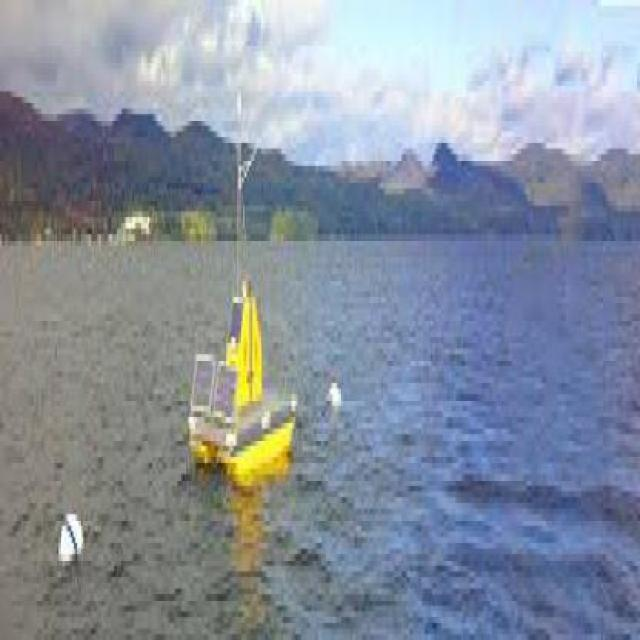buoy: (189, 70, 309, 510), (53, 498, 86, 573)
